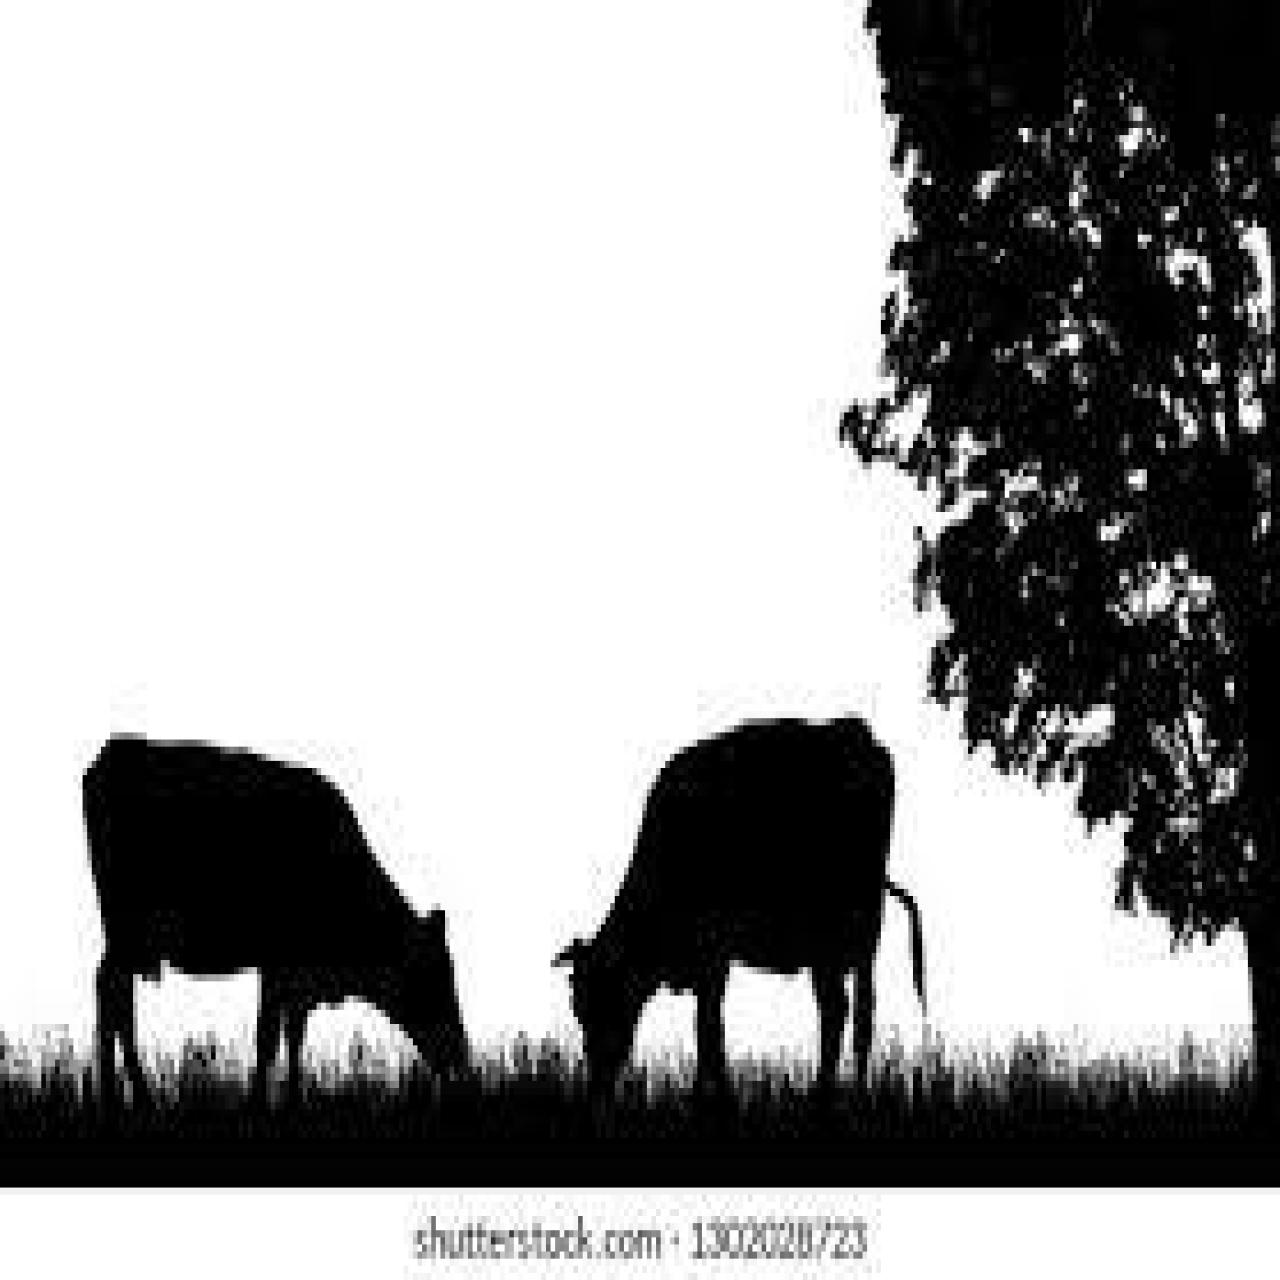cow: (80, 726, 475, 1103), (566, 719, 925, 1074)
